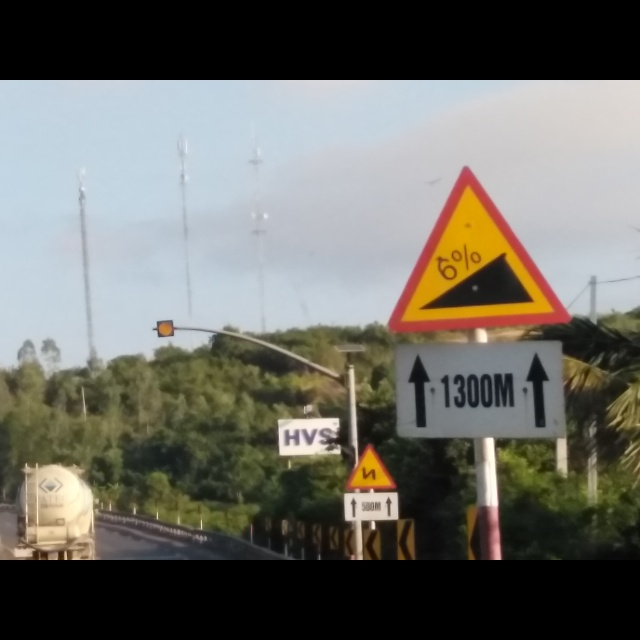Dốc lên nguy hiểm: (385, 165, 571, 338)
Ngoặt nguy hiểm liên tiếp bên phải: (346, 442, 399, 489)
